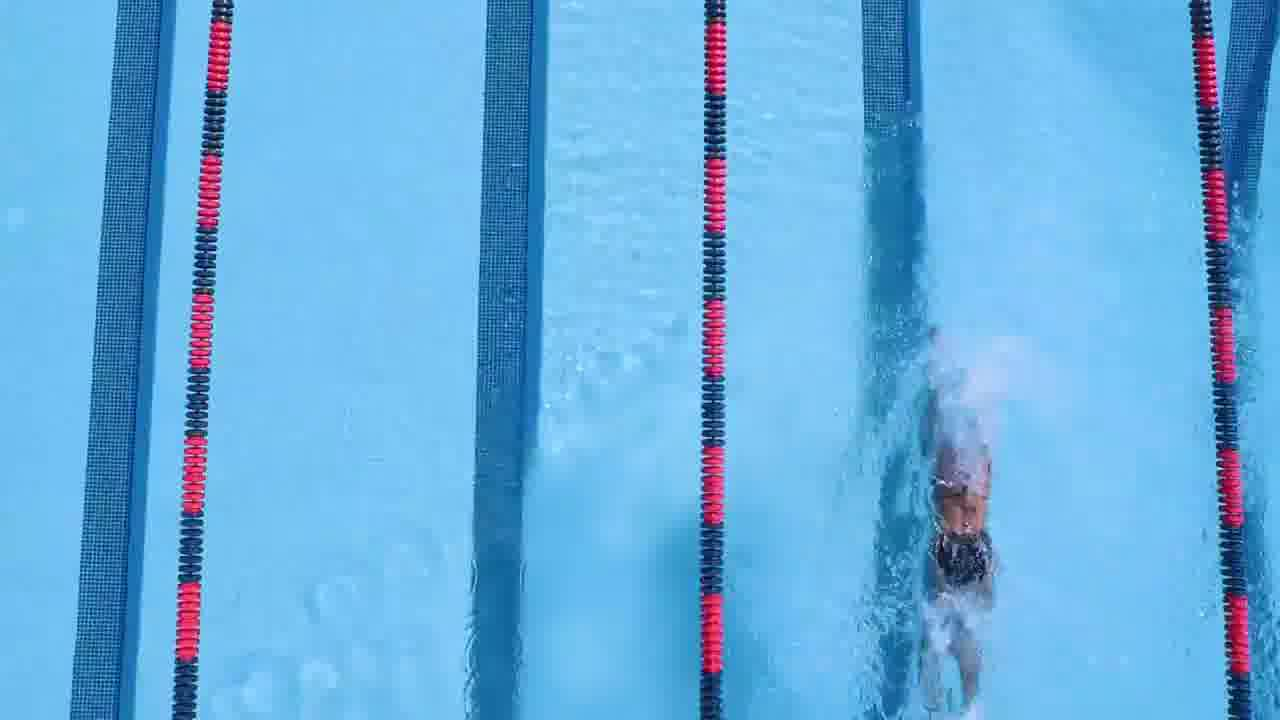human: (904, 390, 1028, 641)
